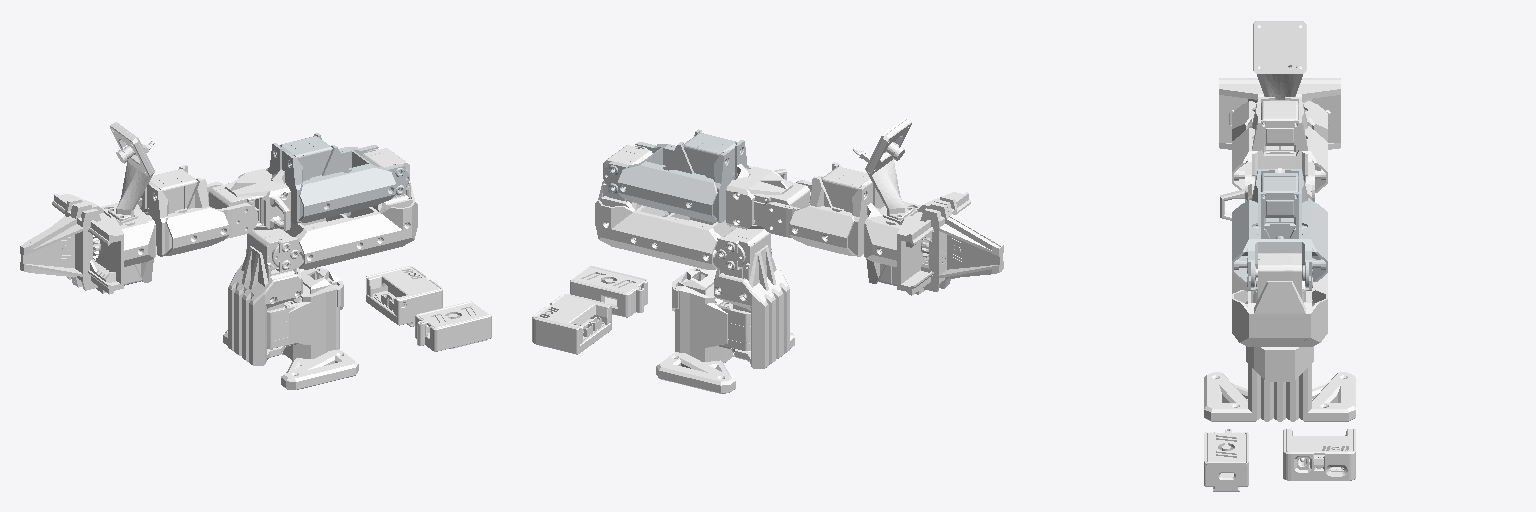
URDF robot description (follower_arm_modified_final1):
<?xml version="1.0" encoding="utf-8"?>
<!-- This URDF was automatically created by SolidWorks to URDF Exporter! Originally created by Stephen Brawner (brawner@gmail.com) 
     Commit Version: 1.6.0-4-g7f85cfe  Build Version: 1.6.7995.38578
     For more information, please see http://wiki.ros.org/sw_urdf_exporter -->
<robot
  name="follower_arm_modified_final1">
  <link
    name="base_link">
    <inertial>
      <origin
        xyz="0.00699308297530182 0.000499182087480593 0.0270411531259418"
        rpy="0 0 0" />
      <mass
        value="0.33961059194165" />
      <inertia
        ixx="8.90122907228225E-05"
        ixy="1.14229891403656E-07"
        ixz="-4.57407064548564E-06"
        iyy="9.39808591285238E-05"
        iyz="-1.31724655817494E-09"
        izz="0.00011092146862718" />
    </inertial>
    <visual>
      <origin
        xyz="0 0 0"
        rpy="0 0 0" />
      <geometry>
        <mesh
          filename="./meshes/base_link.STL" />
      </geometry>
      <material
        name="">
        <color
          rgba="1 1 1 1" />
      </material>
    </visual>
    <collision>
      <origin
        xyz="0 0 0"
        rpy="0 0 0" />
      <geometry>
        <mesh
          filename="./meshes/base_link.STL" />
      </geometry>
    </collision>
  </link>
  <link
    name="link1">
    <inertial>
      <origin
        xyz="-0.00158726735058579 0.000500198059578821 0.0605018306487952"
        rpy="0 0 0" />
      <mass
        value="0.279729948423306" />
      <inertia
        ixx="7.96502678091988E-05"
        ixy="-9.0485654070199E-08"
        ixz="-4.35058465302795E-06"
        iyy="7.2717258932553E-05"
        iyz="6.89047183128684E-07"
        izz="4.12312364634198E-05" />
    </inertial>
    <visual>
      <origin
        xyz="0 0 0"
        rpy="0 0 0" />
      <geometry>
        <mesh
          filename="./meshes/link1.STL" />
      </geometry>
      <material
        name="">
        <color
          rgba="1 1 1 1" />
      </material>
    </visual>
    <collision>
      <origin
        xyz="0 0 0"
        rpy="0 0 0" />
      <geometry>
        <mesh
          filename="./meshes/link1.STL" />
      </geometry>
    </collision>
  </link>
  <joint
    name="joint1"
    type="revolute">
    <origin
      xyz="-0.0212954796450086 0 0.0143999999999997"
      rpy="0 0 0" />
    <parent
      link="base_link" />
    <child
      link="link1" />
    <axis
      xyz="0 0 1" />
    <limit
      lower="-1.5708"
      upper="1.5708"
      effort="0.49"
      velocity="5.45" />
  </joint>
  <link
    name="link2">
    <inertial>
      <origin
        xyz="-0.0860153343362051 0.0191362009775865 -0.0171511639066468"
        rpy="0 0 0" />
      <mass
        value="0.311031757051853" />
      <inertia
        ixx="7.64902870671964E-05"
        ixy="3.57788368403464E-06"
        ixz="1.92093175412231E-06"
        iyy="0.000104321404717043"
        iyz="1.32638424570743E-06"
        izz="0.000119649882080701" />
    </inertial>
    <visual>
      <origin
        xyz="0 0 0"
        rpy="0 0 0" />
      <geometry>
        <mesh
          filename="./meshes/link2.STL" />
      </geometry>
      <material
        name="">
        <color
          rgba="1 1 1 1" />
      </material>
    </visual>
    <collision>
      <origin
        xyz="0 0 0"
        rpy="0 0 0" />
      <geometry>
        <mesh
          filename="./meshes/link2.STL" />
      </geometry>
    </collision>
  </link>
  <joint
    name="joint2"
    type="revolute">
    <origin
      xyz="0 0.0177000000000036 0.0784499962537874"
      rpy="1.57079632679495 0 3.14159265358979" />
    <parent
      link="link1" />
    <child
      link="link2" />
    <axis
      xyz="0 0 -1" />
    <limit
      lower="0"
      upper="3.1416"
      effort="0.49"
      velocity="5.45" />
  </joint>
  <link
    name="link3">
    <inertial>
      <origin
        xyz="0.0628346417117386 0.0107887072359973 -0.0176731187661649"
        rpy="0 0 0" />
      <mass
        value="0.287911495604701" />
      <inertia
        ixx="6.38382394573513E-05"
        ixy="-1.42575138763748E-06"
        ixz="-3.67357425452935E-08"
        iyy="6.51293002802702E-05"
        iyz="1.25584061744232E-08"
        izz="9.20494626841993E-05" />
    </inertial>
    <visual>
      <origin
        xyz="0 0 0"
        rpy="0 0 0" />
      <geometry>
        <mesh
          filename="./meshes/link3.STL" />
      </geometry>
      <material
        name="">
        <color
          rgba="0.898039215686275 0.917647058823529 0.929411764705882 1" />
      </material>
    </visual>
    <collision>
      <origin
        xyz="0 0 0"
        rpy="0 0 0" />
      <geometry>
        <mesh
          filename="./meshes/link3.STL" />
      </geometry>
    </collision>
  </link>
  <joint
    name="joint3"
    type="revolute">
    <origin
      xyz="-0.0943599999999989 0.037490003746198 0"
      rpy="0 0 0" />
    <parent
      link="link2" />
    <child
      link="link3" />
    <axis
      xyz="0 0 -1" />
    <limit
      lower="-3.1416"
      upper="0"
      effort="0.49"
      velocity="5.45" />
  </joint>
  <link
    name="link4">
    <inertial>
      <origin
        xyz="-0.000432697381760681 2.19853340446552E-05 0.0301860202241591"
        rpy="0 0 0" />
      <mass
        value="0.255113180304045" />
      <inertia
        ixx="5.48086662050542E-05"
        ixy="2.86775936988646E-09"
        ixz="-8.74464012225844E-07"
        iyy="6.32127426227662E-05"
        iyz="7.10477606025445E-09"
        izz="3.53804644309065E-05" />
    </inertial>
    <visual>
      <origin
        xyz="0 0 0"
        rpy="0 0 0" />
      <geometry>
        <mesh
          filename="./meshes/link4.STL" />
      </geometry>
      <material
        name="">
        <color
          rgba="1 1 1 1" />
      </material>
    </visual>
    <collision>
      <origin
        xyz="0 0 0"
        rpy="0 0 0" />
      <geometry>
        <mesh
          filename="./meshes/link4.STL" />
      </geometry>
    </collision>
  </link>
  <joint
    name="joint4"
    type="revolute">
    <origin
      xyz="0.0839500018730997 0 -0.0176999999999974"
      rpy="0 1.5707963267949 0" />
    <parent
      link="link3" />
    <child
      link="link4" />
    <axis
      xyz="0 0 -1" />
    <limit
      lower="-3.1416"
      upper="3.1416"
      effort="0.49"
      velocity="5.45" />
  </joint>
  <link
    name="link5">
    <inertial>
      <origin
        xyz="-0.0482763648803302 0.0111766880807458 0.0176795370128001"
        rpy="0 0 0" />
      <mass
        value="0.278759286080609" />
      <inertia
        ixx="6.35211657303839E-05"
        ixy="1.37691454005305E-06"
        ixz="3.23815397958866E-08"
        iyy="5.05085227425069E-05"
        iyz="1.95738510836327E-08"
        izz="7.6807514543487E-05" />
    </inertial>
    <visual>
      <origin
        xyz="0 0 0"
        rpy="0 0 0" />
      <geometry>
        <mesh
          filename="./meshes/link5.STL" />
      </geometry>
      <material
        name="">
        <color
          rgba="1 1 1 1" />
      </material>
    </visual>
    <collision>
      <origin
        xyz="0 0 0"
        rpy="0 0 0" />
      <geometry>
        <mesh
          filename="./meshes/link5.STL" />
      </geometry>
    </collision>
  </link>
  <joint
    name="joint5"
    type="revolute">
    <origin
      xyz="-0.0177000000000006 0 0.0442499999999998"
      rpy="0 1.5707963267949 0" />
    <parent
      link="link4" />
    <child
      link="link5" />
    <axis
      xyz="0 0 1" />
    <limit
      lower="-1.5708"
      upper="1.9199"
      effort="0.49"
      velocity="5.45" />
  </joint>
  <link
    name="link6">
    <inertial>
      <origin
        xyz="1.12577419077026E-05 -0.00869321409711493 -0.0284384226666083"
        rpy="0 0 0" />
      <mass
        value="0.295033242849278" />
      <inertia
        ixx="8.30535178252819E-05"
        ixy="-3.25406211175228E-08"
        ixz="-7.37715156447249E-08"
        iyy="5.7950880543522E-05"
        iyz="-7.12989864923948E-07"
        izz="7.96763157298762E-05" />
    </inertial>
    <visual>
      <origin
        xyz="0 0 0"
        rpy="0 0 0" />
      <geometry>
        <mesh
          filename="./meshes/link6.STL" />
      </geometry>
      <material
        name="">
        <color
          rgba="1 1 1 1" />
      </material>
    </visual>
    <collision>
      <origin
        xyz="0 0 0"
        rpy="0 0 0" />
      <geometry>
        <mesh
          filename="./meshes/link6.STL" />
      </geometry>
    </collision>
  </link>
  <joint
    name="joint6"
    type="revolute">
    <origin
      xyz="-0.0674499984948267 0 0.0176999999999994"
      rpy="0 1.5707963267949 0" />
    <parent
      link="link5" />
    <child
      link="link6" />
    <axis
      xyz="0 0 1" />
    <limit
      lower="-3.1416"
      upper="3.1416"
      effort="0.49"
      velocity="5.45" />
  </joint>
  <link
    name="End_effector">
    <inertial>
      <origin
        xyz="-5.3906E-13 -2.8103E-09 0.0022467"
        rpy="0 0 0" />
      <mass
        value="0.0041534" />
      <inertia
        ixx="1.46E-07"
        ixy="1.068E-18"
        ixz="-3.4553E-18"
        iyy="1.46E-07"
        iyz="-2.4513E-18"
        izz="2.7608E-07" />
    </inertial>
    <visual>
      <origin
        xyz="0 0 0"
        rpy="0 0 0" />
      <geometry>
        <mesh
          filename="./meshes/End_effector.STL" />
      </geometry>
      <material
        name="">
        <color
          rgba="1 1 1 1" />
      </material>
    </visual>
    <collision>
      <origin
        xyz="0 0 0"
        rpy="0 0 0" />
      <geometry>
        <mesh
          filename="./meshes/End_effector.STL" />
      </geometry>
    </collision>
  </link>
  <joint
    name="end_gear_joint"
    type="revolute">
    <origin
      xyz="0 0 -0.04545"
      rpy="-3.1416 0 3.1416" />
    <parent
      link="link6" />
    <child
      link="End_effector" />
    <axis
      xyz="0 0 -1" />
    <limit
      lower="0"
      upper="2.0944"
      effort="0.49"
      velocity="5.45" />
  </joint>
  <link
    name="Claw_right_finger">
    <inertial>
      <origin
        xyz="0.0157788331721816 -0.00252814134043575 0.0424616881214185"
        rpy="0 0 0" />
      <mass
        value="0.011796939063717" />
      <inertia
        ixx="3.91187955674038E-06"
        ixy="-3.209439179236E-07"
        ixz="-1.08556763587507E-07"
        iyy="3.02177318508026E-06"
        iyz="-3.27728555398096E-07"
        izz="5.27261588449933E-06" />
    </inertial>
    <visual>
      <origin
        xyz="0 0 0"
        rpy="0 0 0" />
      <geometry>
        <mesh
          filename="./meshes/Claw_right_finger.STL" />
      </geometry>
      <material
        name="">
        <color
          rgba="1 1 1 1" />
      </material>
    </visual>
    <collision>
      <origin
        xyz="0 0 0"
        rpy="0 0 0" />
      <geometry>
        <mesh
          filename="./meshes/Claw_right_finger.STL" />
      </geometry>
    </collision>
  </link>
  <joint
    name="right_finger_joint"
    type="prismatic">
    <origin
      xyz="-0.04 0 -0.04837"
      rpy="0 1.5708 0" />
    <parent
      link="link6" />
    <child
      link="Claw_right_finger" />
    <axis
      xyz="0 0 1" />
    <limit
      lower="0"
      upper="0.045"
      effort="0"
      velocity="0" />
    <mimic
      joint="end_gear_joint"
      multiplier="0.01"
      offset="0" />
  </joint>
  <link
    name="Claw_left_finger">
    <inertial>
      <origin
        xyz="0.0157788466749821 0.00252814135902021 0.0375242626802784"
        rpy="0 0 0" />
      <mass
        value="0.0117969390637172" />
      <inertia
        ixx="3.91187895153315E-06"
        ixy="3.2094394390291E-07"
        ixz="1.0855625009549E-07"
        iyy="3.02177715130521E-06"
        iyz="-3.27728558232644E-07"
        izz="5.27261924551706E-06" />
    </inertial>
    <visual>
      <origin
        xyz="0 0 0"
        rpy="0 0 0" />
      <geometry>
        <mesh
          filename="./meshes/Claw_left_finger.STL" />
      </geometry>
      <material
        name="">
        <color
          rgba="1 1 1 1" />
      </material>
    </visual>
    <collision>
      <origin
        xyz="0 0 0"
        rpy="0 0 0" />
      <geometry>
        <mesh
          filename="./meshes/Claw_left_finger.STL" />
      </geometry>
    </collision>
  </link>
  <joint
    name="left_finger_joint"
    type="prismatic">
    <origin
      xyz="-0.04 0 -0.04837"
      rpy="0 1.5708 0" />
    <parent
      link="link6" />
    <child
      link="Claw_left_finger" />
    <axis
      xyz="0 0 -1" />
    <limit
      lower="0"
      upper="0.045"
      effort="0"
      velocity="0" />
    <mimic
      joint="end_gear_joint"
      multiplier="0.01"
      offset="0" />
  </joint>
</robot>

--- What the picture shows (computed from the rendered views, not written in the file) ---
3 views of the same robot in one strip: view 1: azimuth 30°, elevation 25°; view 2: azimuth 150°, elevation 25°; view 3: azimuth 270°, elevation 25° (orthographic).
Model follower_arm_modified_final1 with 10 links and 9 joints (7 revolute, 2 prismatic), rooted at base_link, posed all joints at 0.
Links seen in each view (by area): view 1: base_link, link3, link2, link6, link5, link1, Claw_left_finger, link4, Claw_right_finger; view 2: base_link, link3, link2, link6, link5, link1, Claw_right_finger, link4, Claw_left_finger; view 3: base_link, link6, link3, link2, link5, link4.
Link boxes in pixels (bbox=[...]): base_link: bbox=[223, 266, 491, 389]; link3: bbox=[266, 133, 409, 223]; link2: bbox=[272, 148, 417, 271]; link6: bbox=[52, 122, 155, 294]; link5: bbox=[140, 165, 257, 256]; link1: bbox=[228, 229, 302, 365]; Claw_left_finger: bbox=[22, 203, 100, 290]; link4: bbox=[209, 169, 290, 230]; Claw_right_finger: bbox=[20, 198, 115, 285]; base_link: bbox=[532, 266, 794, 393]; link3: bbox=[603, 129, 751, 226]; link2: bbox=[595, 145, 745, 271]; link6: bbox=[853, 118, 970, 295]; link5: bbox=[759, 162, 884, 256]; link1: bbox=[714, 227, 789, 368]; Claw_right_finger: bbox=[920, 202, 1001, 291]; link4: bbox=[726, 164, 809, 228]; Claw_left_finger: bbox=[906, 196, 1003, 285]; base_link: bbox=[1204, 346, 1355, 491]; link6: bbox=[1219, 20, 1340, 149]; link3: bbox=[1232, 169, 1327, 290]; link2: bbox=[1232, 253, 1327, 346]; link5: bbox=[1232, 97, 1327, 201]; link4: bbox=[1220, 168, 1311, 220].
Bounding box of the posed robot: 0.3602 × 0.1 × 0.2123 m (x, y, z).
Meshes: 10 distinct files referenced, 10 mesh visuals loaded (10 binary STL).
